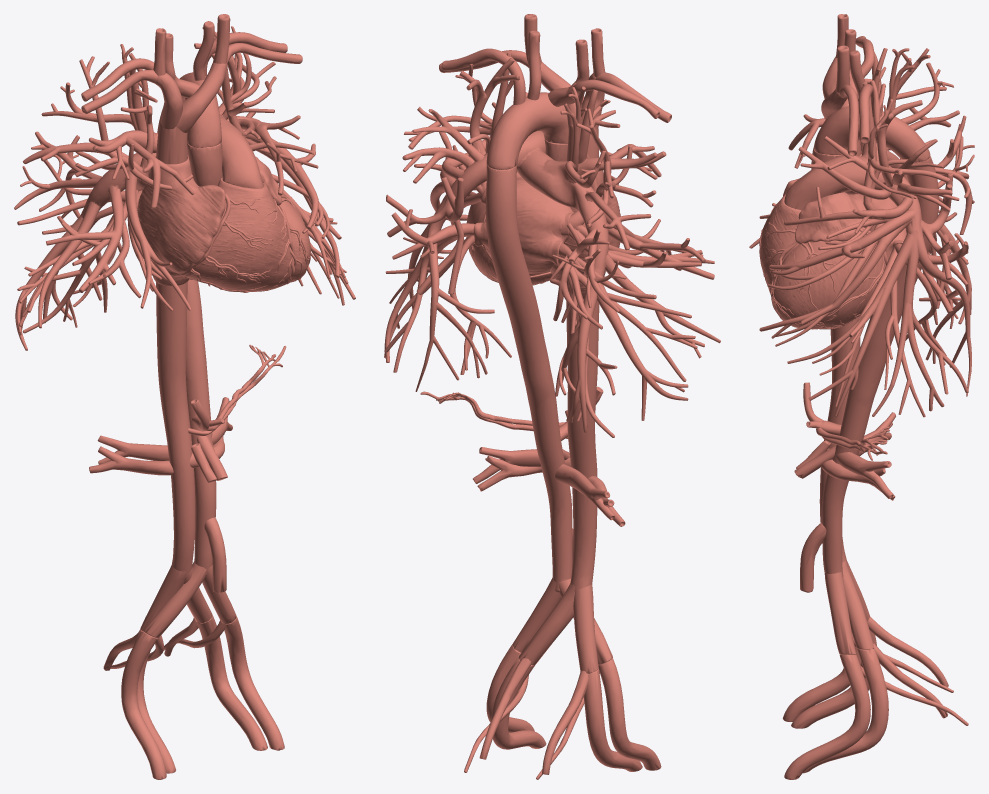
The model's file is cardiovascular.glb.
3 renders of one model, left to right at view 1: azimuth 30°, elevation 25°; view 2: azimuth 150°, elevation 25°; view 3: azimuth 270°, elevation 25°, orthographic. The views are drawn at different scales.
Parts seen in each view (by area): view 1: FMA66326, FMA7274, FMA66643, FMA10951, FMA3784, FMA18806, FMA18886, FMA18807, FMA4761, FMA14765, FMA3768, FMA3736 (+18 smaller); view 2: FMA66326, FMA66643, FMA3784, FMA7274, FMA10951, FMA3768, FMA18806, FMA18885, FMA21387, FMA21388, FMA18886, FMA4694 (+11 smaller); view 3: FMA66326, FMA66643, FMA7274, FMA3784, FMA18807, FMA3768, FMA18886, FMA10951, FMA14766, FMA21388, FMA18806, FMA18885 (+16 smaller).
Boxes of the visible parts, bbox=[...] form: FMA66326: bbox=[14, 26, 355, 350]; FMA7274: bbox=[137, 155, 310, 291]; FMA66643: bbox=[17, 26, 346, 333]; FMA10951: bbox=[156, 282, 195, 578]; FMA3784: bbox=[157, 110, 216, 575]; FMA18806: bbox=[121, 631, 166, 779]; FMA18886: bbox=[196, 615, 267, 750]; FMA18807: bbox=[224, 616, 284, 750]; FMA4761: bbox=[176, 62, 227, 132]; FMA14765: bbox=[143, 561, 206, 637]; FMA3768: bbox=[179, 72, 221, 147]; FMA3736: bbox=[187, 141, 222, 186]; FMA66326: bbox=[384, 58, 720, 432]; FMA66643: bbox=[384, 53, 714, 437]; FMA3784: bbox=[485, 165, 572, 592]; FMA7274: bbox=[466, 170, 621, 299]; FMA10951: bbox=[566, 299, 599, 592]; FMA3768: bbox=[486, 92, 568, 169]; FMA18806: bbox=[598, 658, 661, 770]; FMA18885: bbox=[583, 669, 642, 771]; FMA21387: bbox=[573, 584, 598, 673]; FMA21388: bbox=[518, 583, 575, 665]; FMA18886: bbox=[491, 657, 546, 749]; FMA4694: bbox=[441, 48, 525, 104]; FMA66326: bbox=[749, 48, 974, 417]; FMA66643: bbox=[767, 48, 974, 417]; FMA7274: bbox=[759, 151, 906, 329]; FMA3784: bbox=[821, 156, 938, 576]; FMA18807: bbox=[784, 654, 870, 779]; FMA3768: bbox=[814, 106, 930, 162]; FMA18886: bbox=[803, 648, 888, 773]; FMA10951: bbox=[819, 316, 860, 563]; FMA14766: bbox=[824, 571, 856, 654]; FMA21388: bbox=[842, 559, 873, 649]; FMA18806: bbox=[782, 647, 860, 721]; FMA18885: bbox=[791, 630, 876, 728].
Bounding box in the file's own units: 0.248 × 0.5666 × 0.1614.
